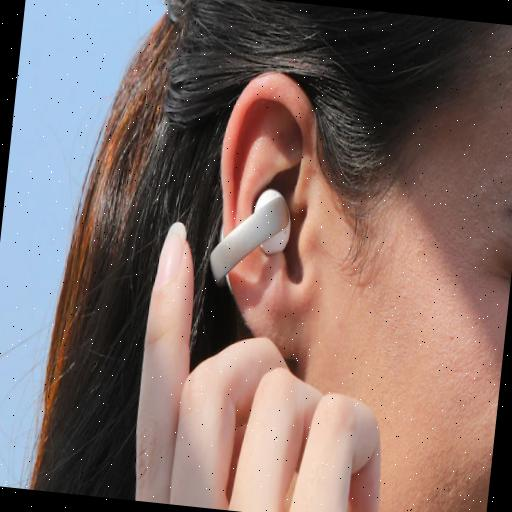earphone: (204, 170, 301, 305)
